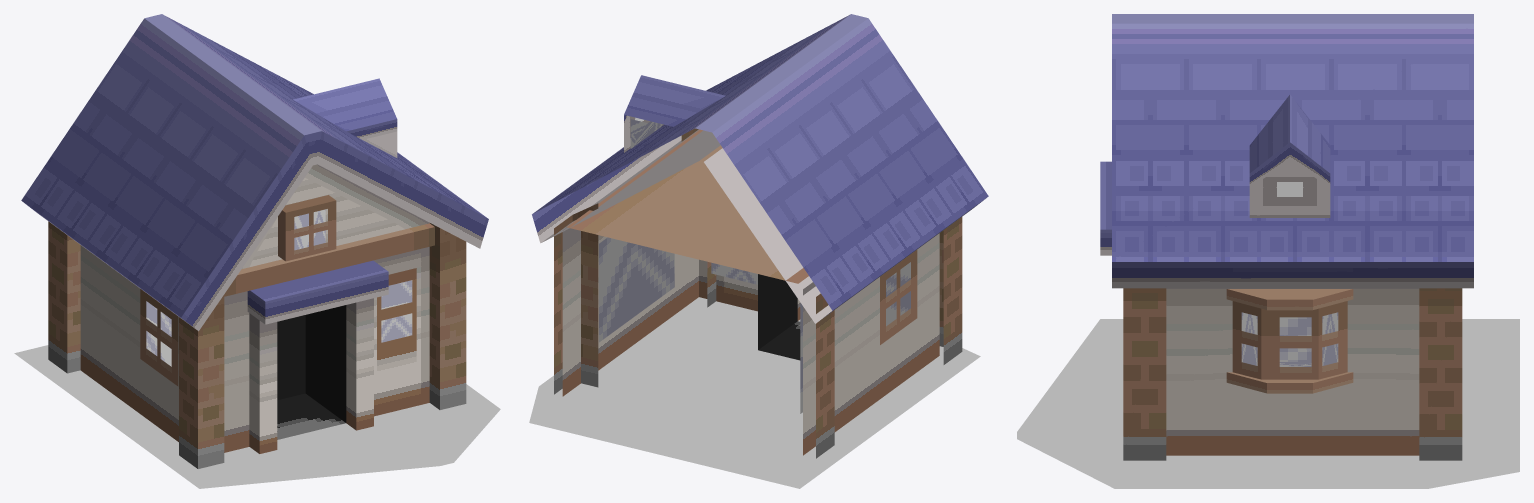
Rendered from tt_house01.dae.
3 renders of one model, left to right at view 1: azimuth 30°, elevation 25°; view 2: azimuth 150°, elevation 25°; view 3: azimuth 270°, elevation 25°, orthographic. The views are drawn at different scales.
Parts seen in each view (by area): view 1: tt_house01; view 2: tt_house01; view 3: tt_house01.
Part boxes in pixels (left/top/right/bottom): tt_house01: left=14, top=14, right=500, bottom=488; tt_house01: left=529, top=14, right=988, bottom=488; tt_house01: left=1017, top=14, right=1519, bottom=488.
Bounding box in the file's own units: 73 × 70.2 × 87.5.
